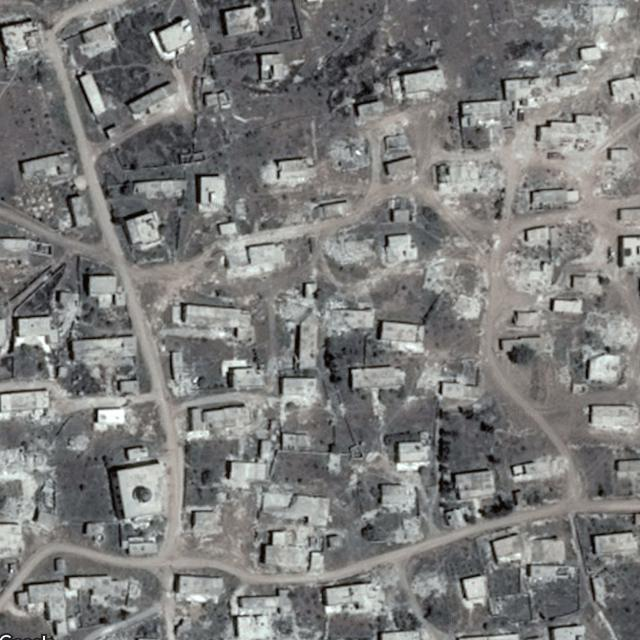damaged_building: (500, 220, 594, 294), (422, 252, 483, 319), (280, 294, 378, 330), (428, 160, 506, 197), (578, 309, 640, 353), (0, 436, 55, 481), (329, 123, 371, 173), (325, 226, 374, 264), (165, 350, 198, 398), (506, 454, 569, 478), (406, 565, 448, 597), (387, 514, 424, 546), (363, 560, 401, 590), (0, 493, 35, 520), (64, 434, 90, 450)
